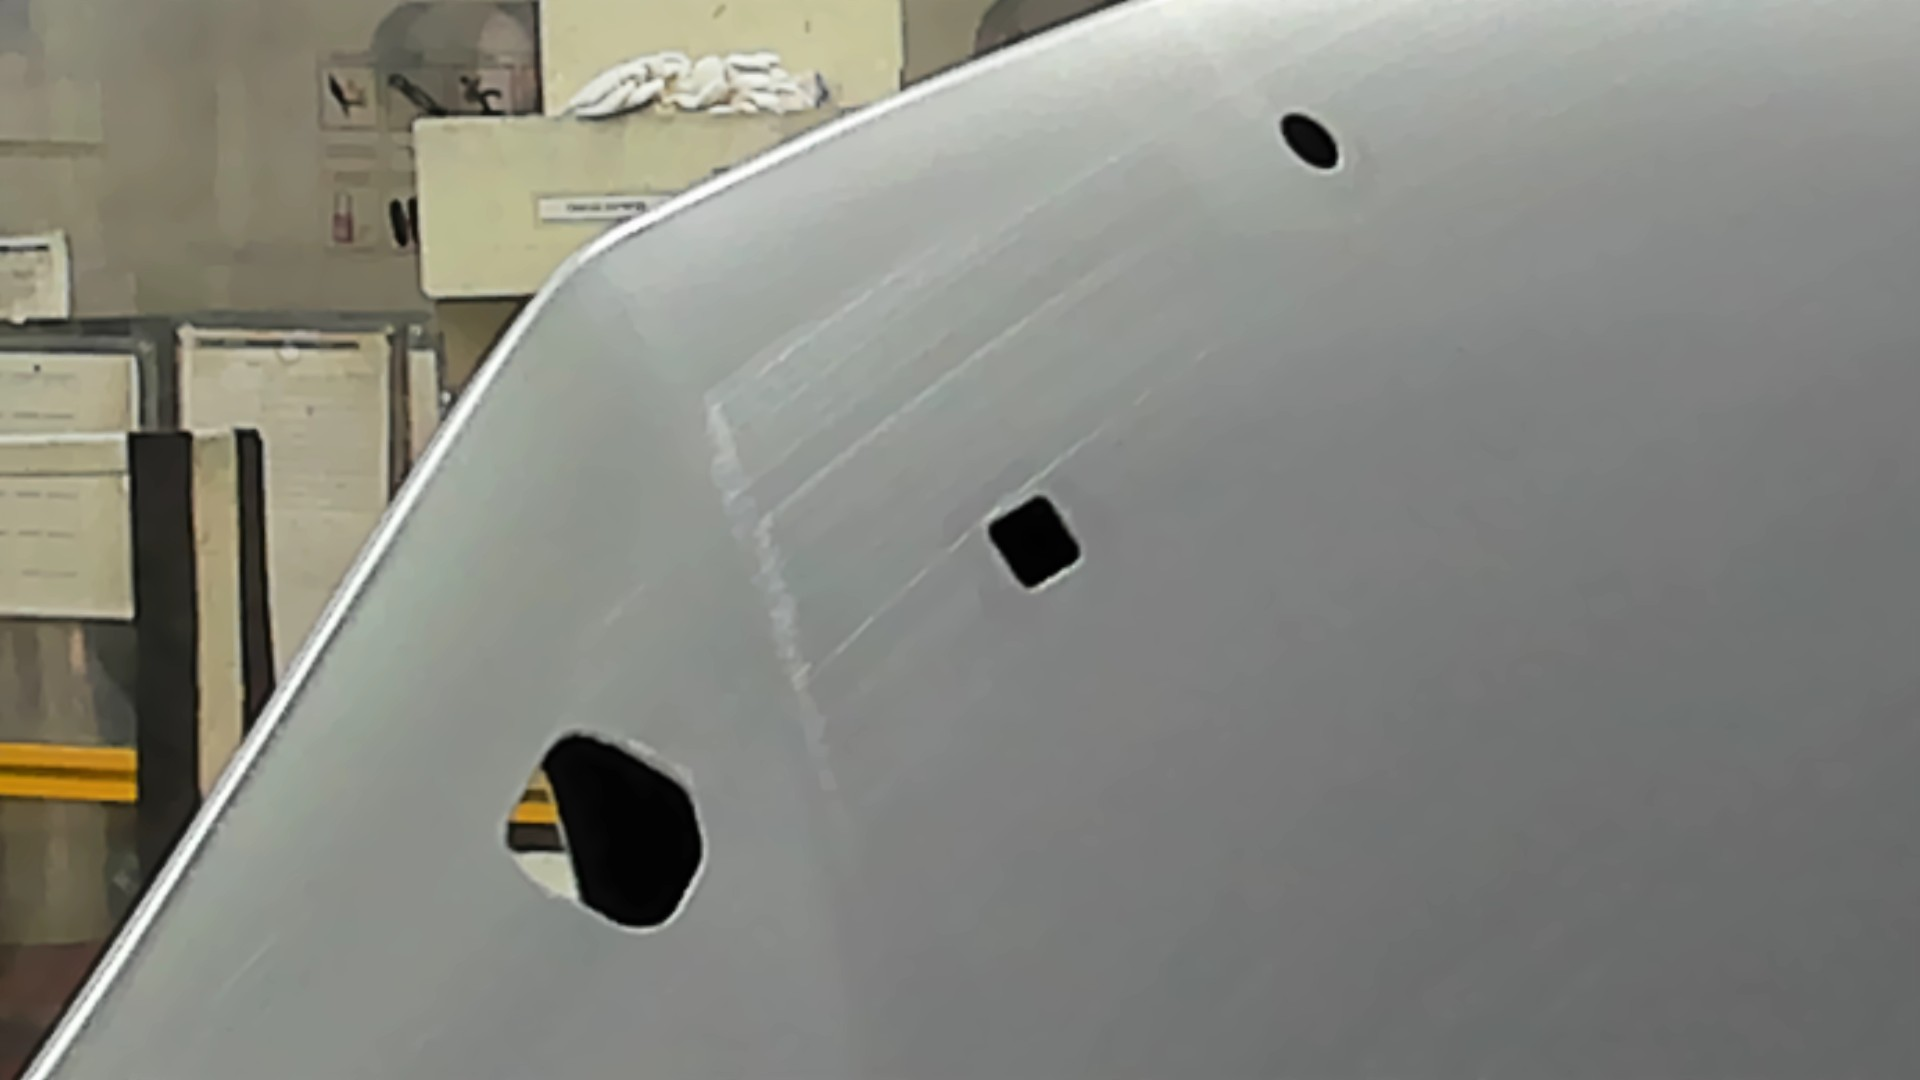capo: (1089, 174, 1920, 1080)
chico: (1278, 109, 1345, 174)
grande: (498, 727, 709, 938)
mediano: (977, 485, 1089, 599)
